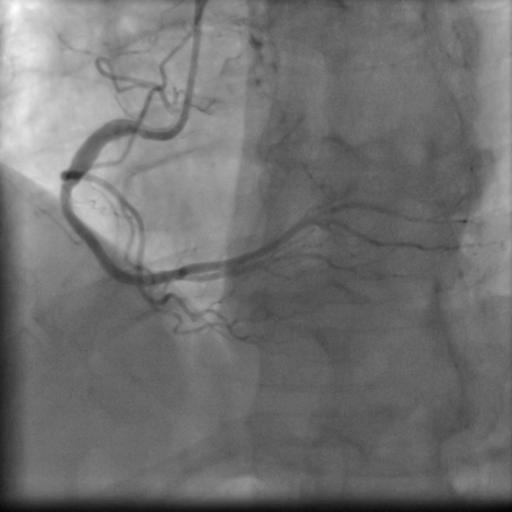Stenosis: (56, 178, 74, 198)
